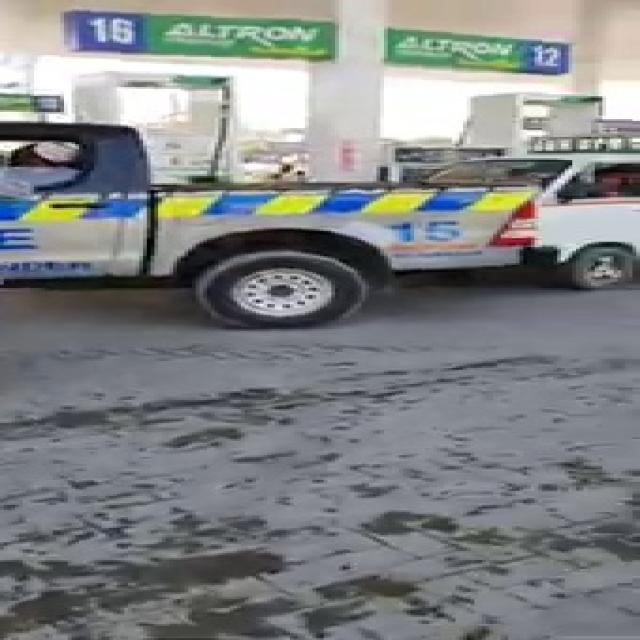police: (0, 119, 558, 323)
